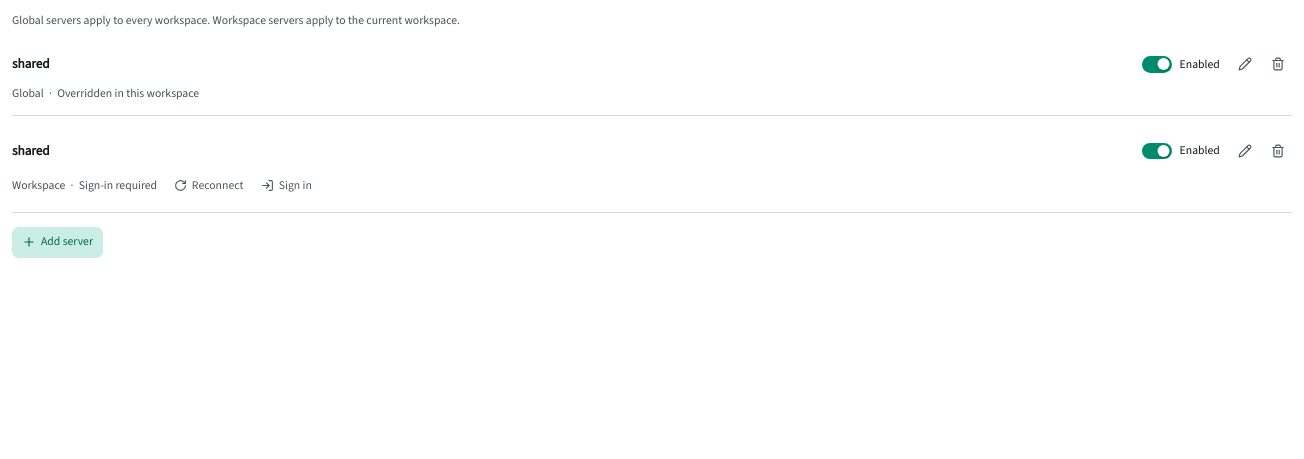
Test: McpSettingsPanel › shows OAuth only on the effective workspace row when it overrides a global name
The image size is (1304, 459).
Click the button "Sign in" at (286, 185), box [254,171,319,199]
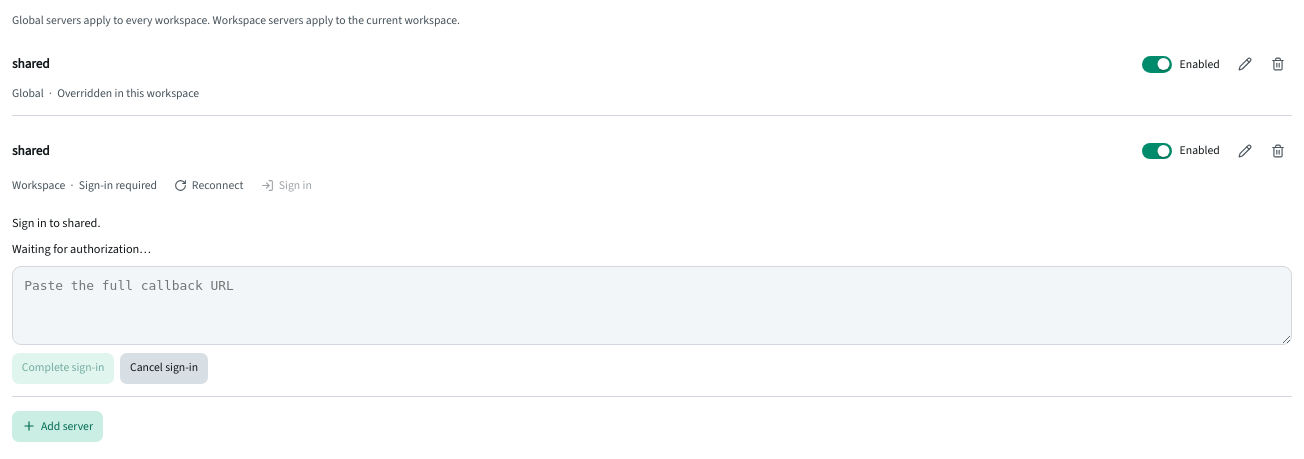
Now the number of elements with class "mcp-settings__auth" is 1, box [12,206,1292,384]
